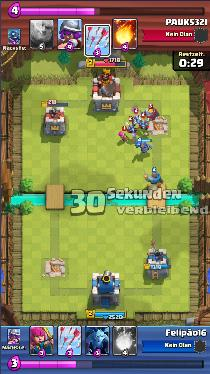ally_knight: (143, 170, 163, 187), (142, 107, 160, 121)
ally_mini_pekka: (135, 142, 152, 153)
enemy_archer: (118, 132, 128, 142)
enemy_minion: (126, 123, 137, 134), (130, 115, 141, 124), (139, 120, 150, 129)
